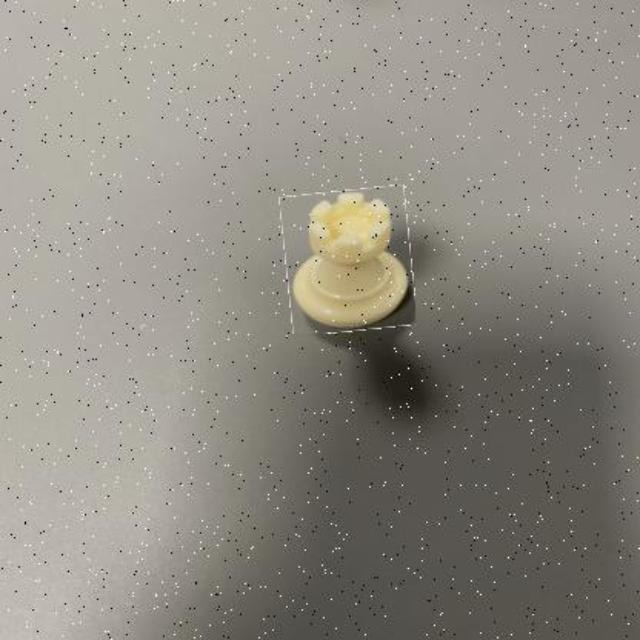white-rook: (282, 188, 414, 334)
